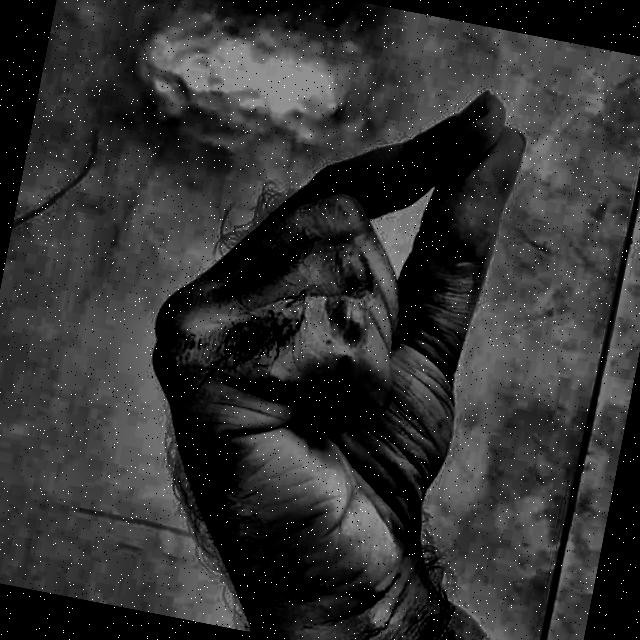Anusshar: (60, 0, 576, 640)
